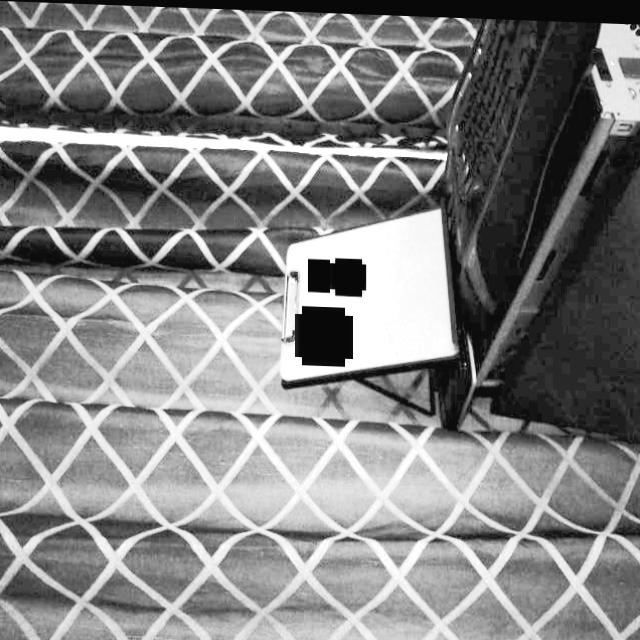qr_code: (298, 307, 349, 359), (332, 257, 365, 291), (308, 255, 330, 290)
